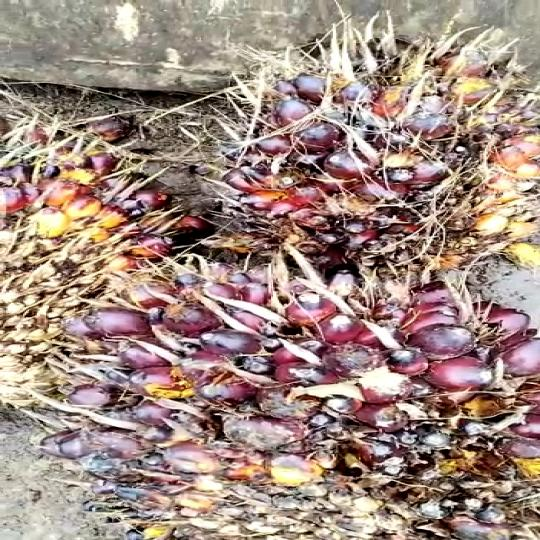masak: (46, 247, 540, 540), (216, 13, 540, 280), (0, 107, 214, 424)
